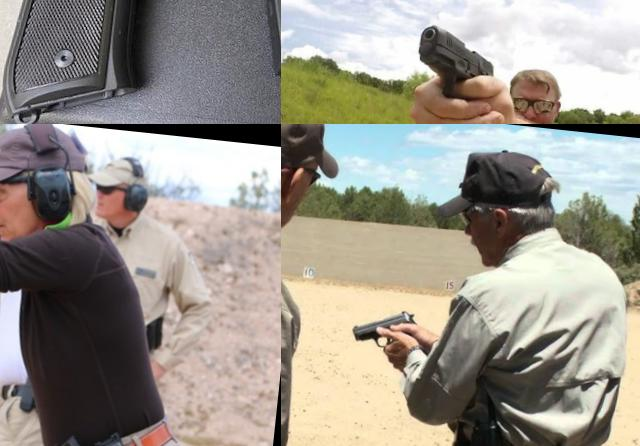handgun: (0, 0, 281, 124), (409, 20, 503, 116), (348, 303, 422, 354), (0, 183, 56, 243), (0, 165, 36, 201)
